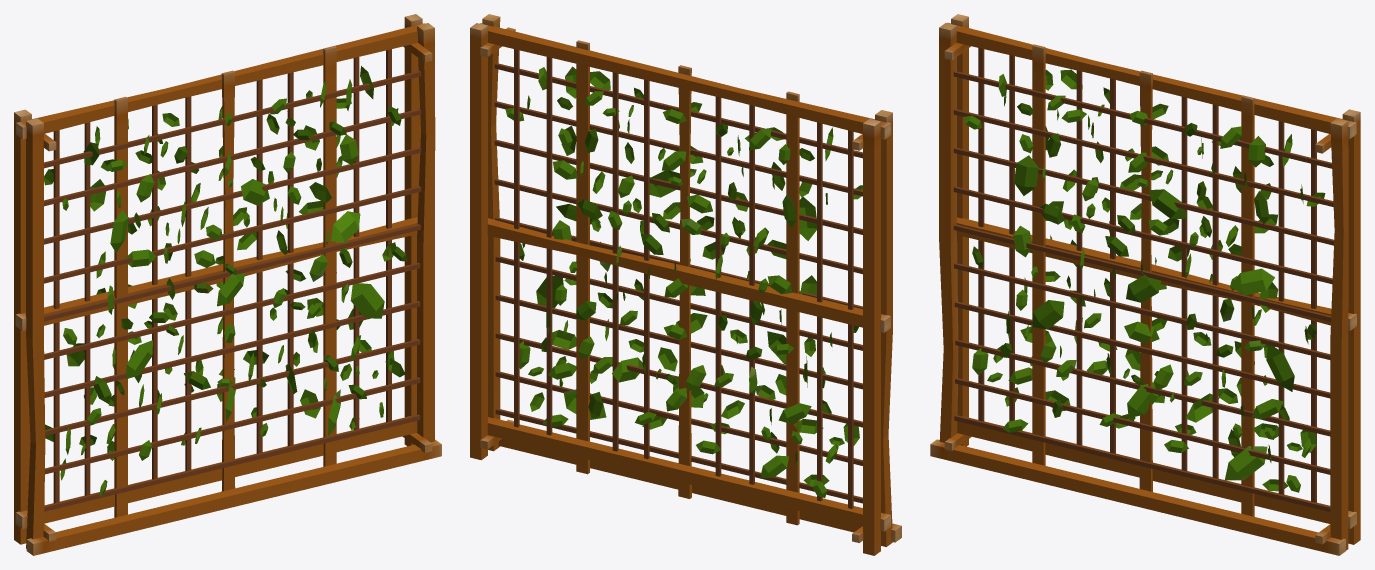
Rendered from kit-portcullis-grate.glb.
3 renders of one model, left to right at view 1: azimuth 30°, elevation 25°; view 2: azimuth 150°, elevation 25°; view 3: azimuth 330°, elevation 25°, orthographic.
Visible parts, largest first — view 1: Cube.246; view 2: Cube.246; view 3: Cube.246.
Boxes of the visible parts, bbox=[...] form: Cube.246: bbox=[14, 14, 441, 555]; Cube.246: bbox=[470, 14, 901, 555]; Cube.246: bbox=[930, 14, 1360, 555].
Bounding box in the file's own units: 1.63 × 1.63 × 0.2724.
1 material, 1 textured.
